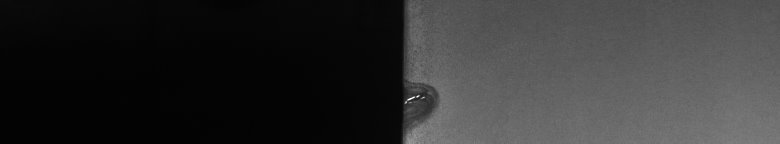hb: (412, 44, 445, 136)
